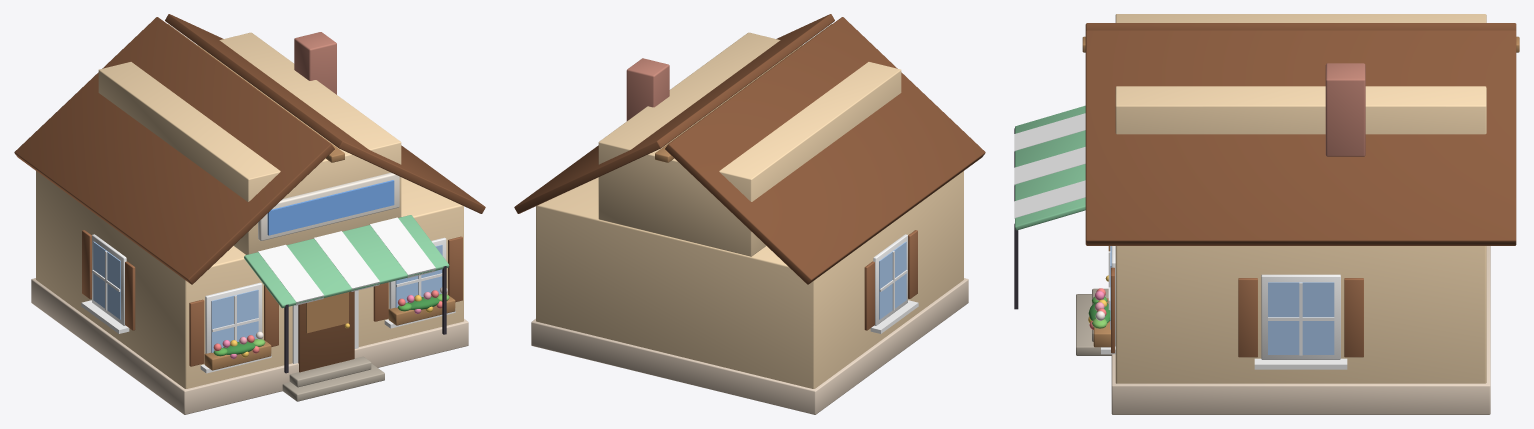
File: house_yellow.glb
The picture shows the model from 3 angles, left to right: view 1: azimuth 30°, elevation 25°; view 2: azimuth 150°, elevation 25°; view 3: azimuth 270°, elevation 25°; orthographic projection. The views are drawn at different scales.
Parts seen in each view (by area): view 1: house_yellow; view 2: house_yellow; view 3: house_yellow.
Part boxes in pixels (left/top/right/bottom): house_yellow: left=14, top=14, right=485, bottom=414; house_yellow: left=514, top=14, right=985, bottom=414; house_yellow: left=1014, top=14, right=1519, bottom=414.
Size of the model in its own units: 6.44 by 5.15 by 7.63.
